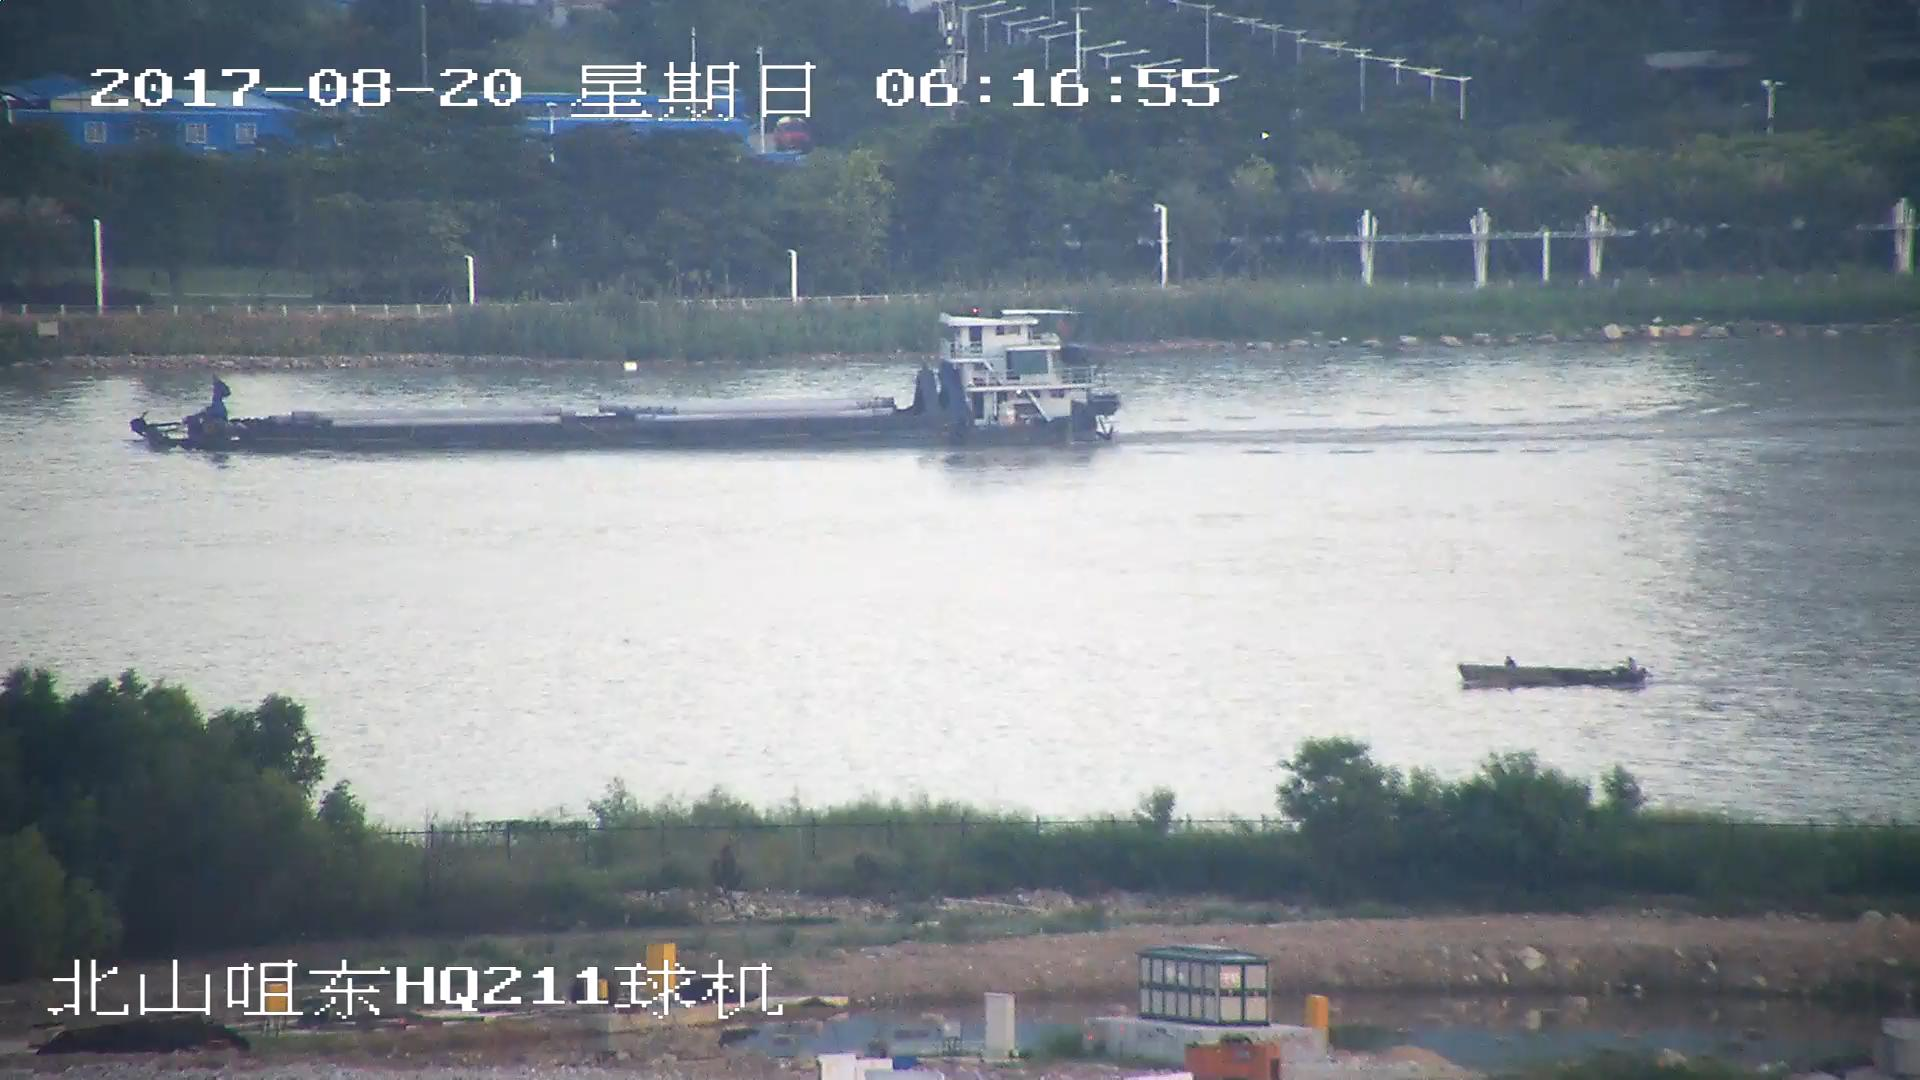bulk cargo carrier: (135, 314, 1116, 455)
fishing boat: (1459, 656, 1646, 686)
